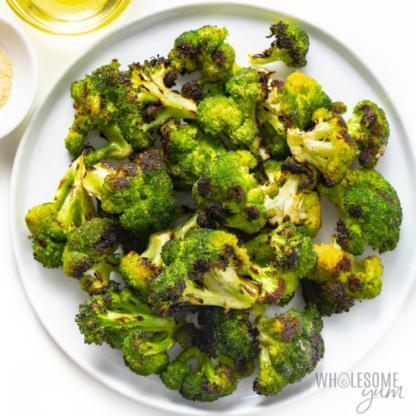broccoli: (26, 18, 404, 401)
